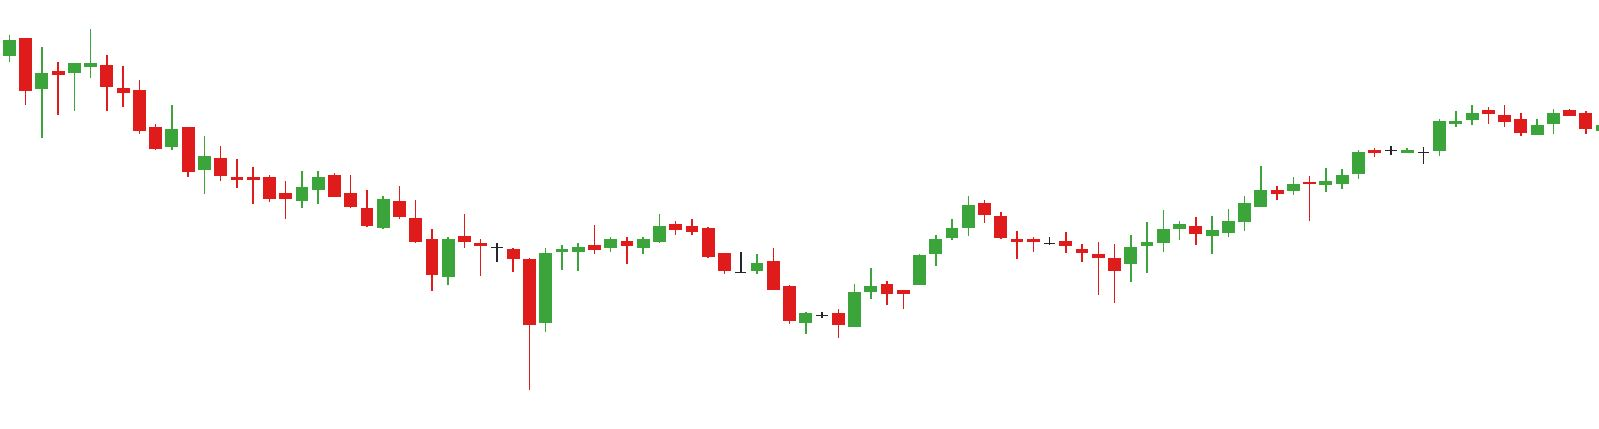sell: (16, 29, 98, 106)
